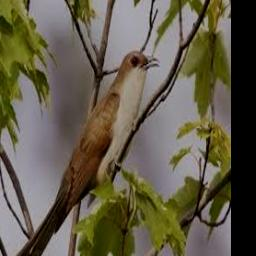Cuckoo: (4, 51, 160, 256)
